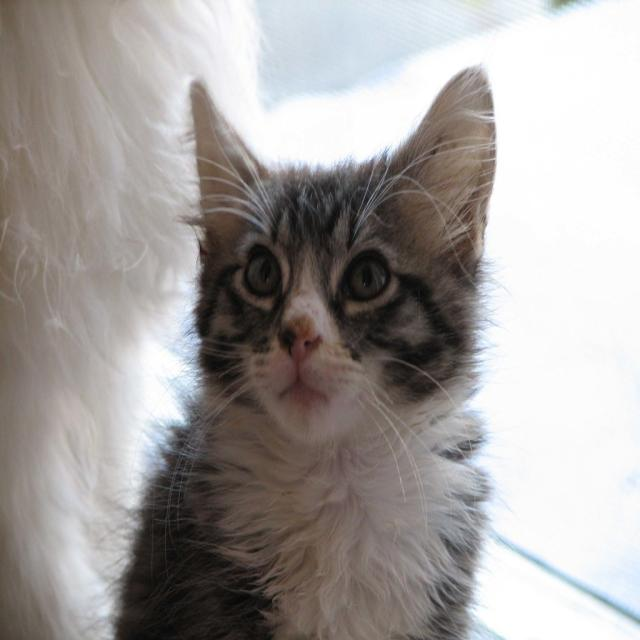Cat: (112, 63, 498, 639)
